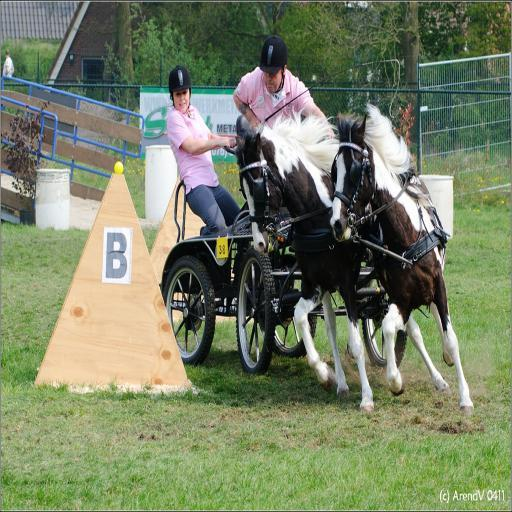Horse: (224, 105, 453, 415), (326, 108, 476, 416)
